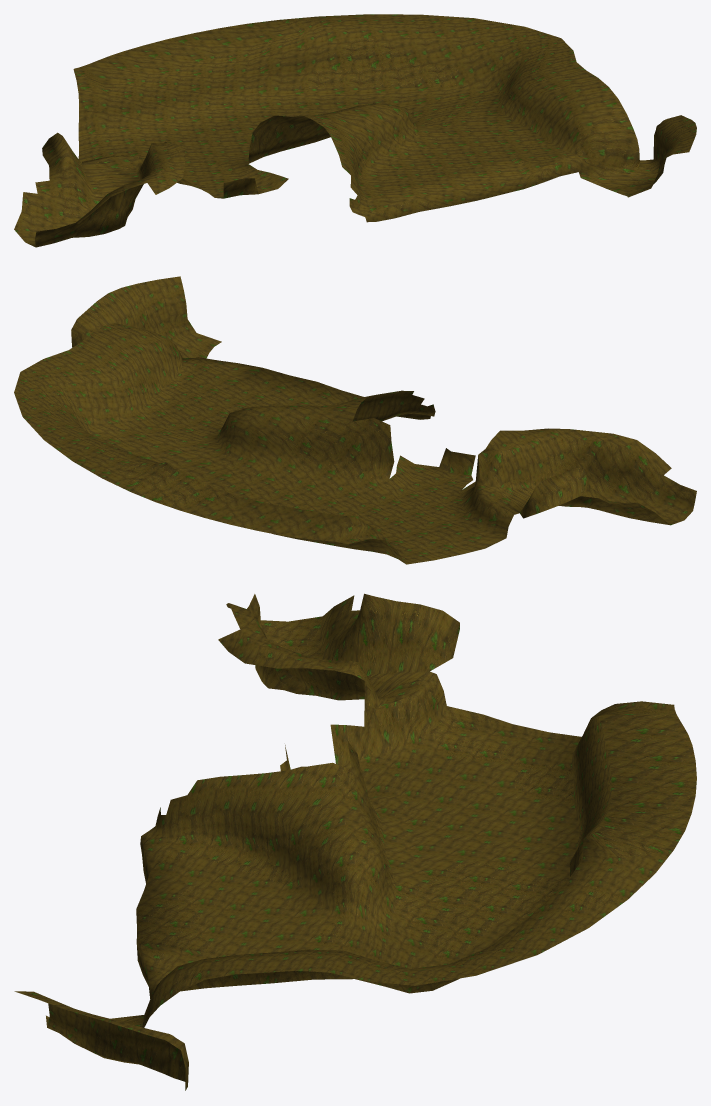
File: MIRKWOOD_AREA1.fbx
3 views of the same model, one above another, from view 1: azimuth 30°, elevation 25°; view 2: azimuth 150°, elevation 25°; view 3: azimuth 270°, elevation 25° (orthographic). The views are drawn at different scales.
Parts seen in each view (by area): view 1: MIRKWOOD_AREA1; view 2: MIRKWOOD_AREA1; view 3: MIRKWOOD_AREA1.
Part boxes in pixels (box(x1,y1,x2,y2)): MIRKWOOD_AREA1: box(14, 14, 696, 247); MIRKWOOD_AREA1: box(14, 276, 696, 564); MIRKWOOD_AREA1: box(14, 593, 696, 1090).
Bounding box in the file's own units: 879990 × 113627 × 587922.
Materials: 1 (1 with a texture image).
